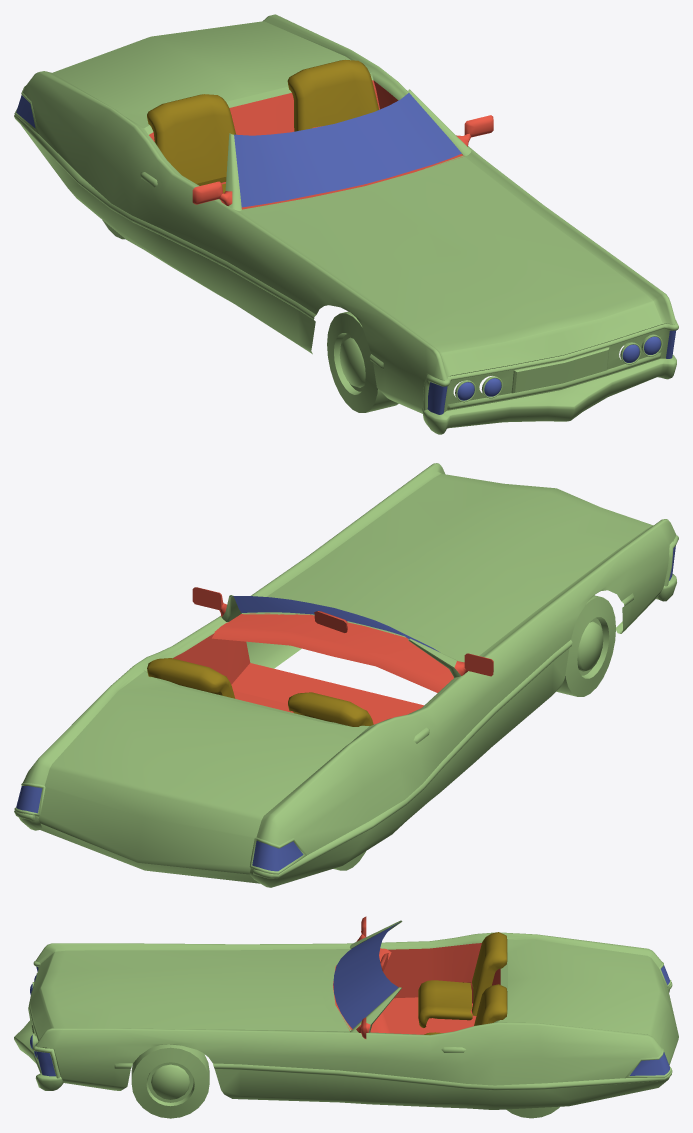
The model's file is car sedan lod.FBX.
3 renders of one model, top to bottom at view 1: azimuth 30°, elevation 25°; view 2: azimuth 150°, elevation 25°; view 3: azimuth 270°, elevation 25°, orthographic. The views are drawn at different scales.
Parts seen in each view (by area): view 1: Group007, Box061, Cylinder001; view 2: Group007, Box061, Cylinder001; view 3: Group007, Cylinder013, Box061, Cylinder015.
Boxes of the visible parts, left/top/right/bottom form: Group007: left=14, top=14, right=678, bottom=434; Box061: left=147, top=59, right=378, bottom=193; Cylinder001: left=327, top=311, right=398, bottom=412; Group007: left=14, top=463, right=678, bottom=887; Box061: left=147, top=658, right=373, bottom=726; Cylinder001: left=556, top=595, right=615, bottom=696; Group007: left=14, top=916, right=678, bottom=1109; Cylinder013: left=131, top=1044, right=209, bottom=1118; Box061: left=418, top=932, right=507, bottom=1034; Cylinder015: left=506, top=1106, right=559, bottom=1118.
Size of the model in its own units: 3.52 by 1.77 by 8.88.
